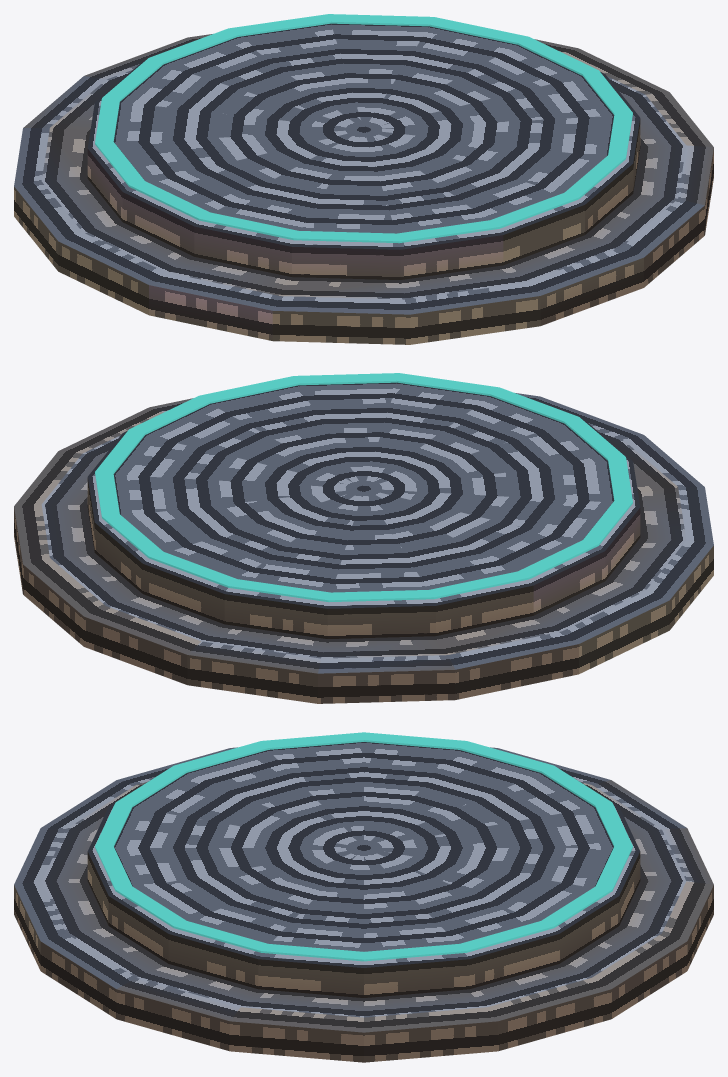
File: stn.stairs__dais.glb
3 renders of one model, top to bottom at view 1: azimuth 30°, elevation 25°; view 2: azimuth 150°, elevation 25°; view 3: azimuth 270°, elevation 25°, orthographic.
Parts seen in each view (by area): view 1: kit_dais, kit_rim; view 2: kit_dais, kit_rim; view 3: kit_dais, kit_rim.
Part boxes in pixels (x1,y1,x2,y2): kit_dais: (14, 23, 713, 344); kit_rim: (95, 14, 632, 243); kit_dais: (14, 382, 713, 703); kit_rim: (95, 373, 632, 602); kit_dais: (14, 742, 713, 1062); kit_rim: (95, 732, 632, 961).
Size of the model in its own units: 3.8 by 0.412 by 3.8.
Materials: 2 (2 with a texture image).
